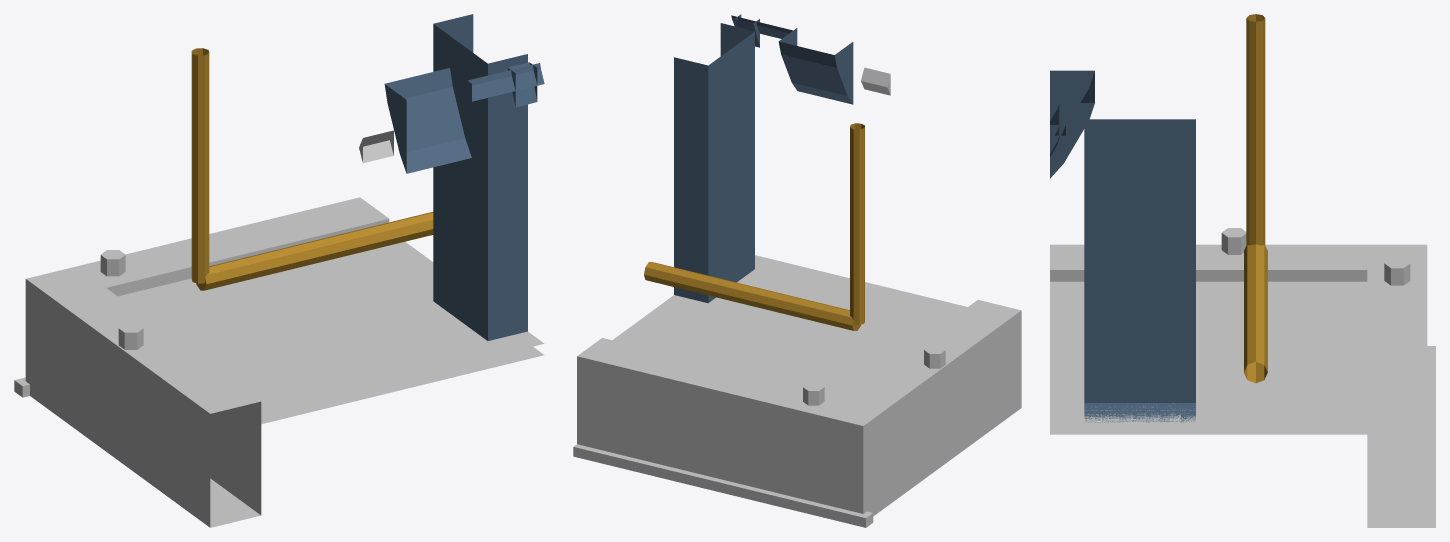
File: cell_0.obj
The picture shows the model from 3 angles, left to right: view 1: azimuth 30°, elevation 25°; view 2: azimuth 150°, elevation 25°; view 3: azimuth 270°, elevation 25°; orthographic projection. The views are drawn at different scales.
Size of the model in its own units: 0.94 by 1 by 0.9.
